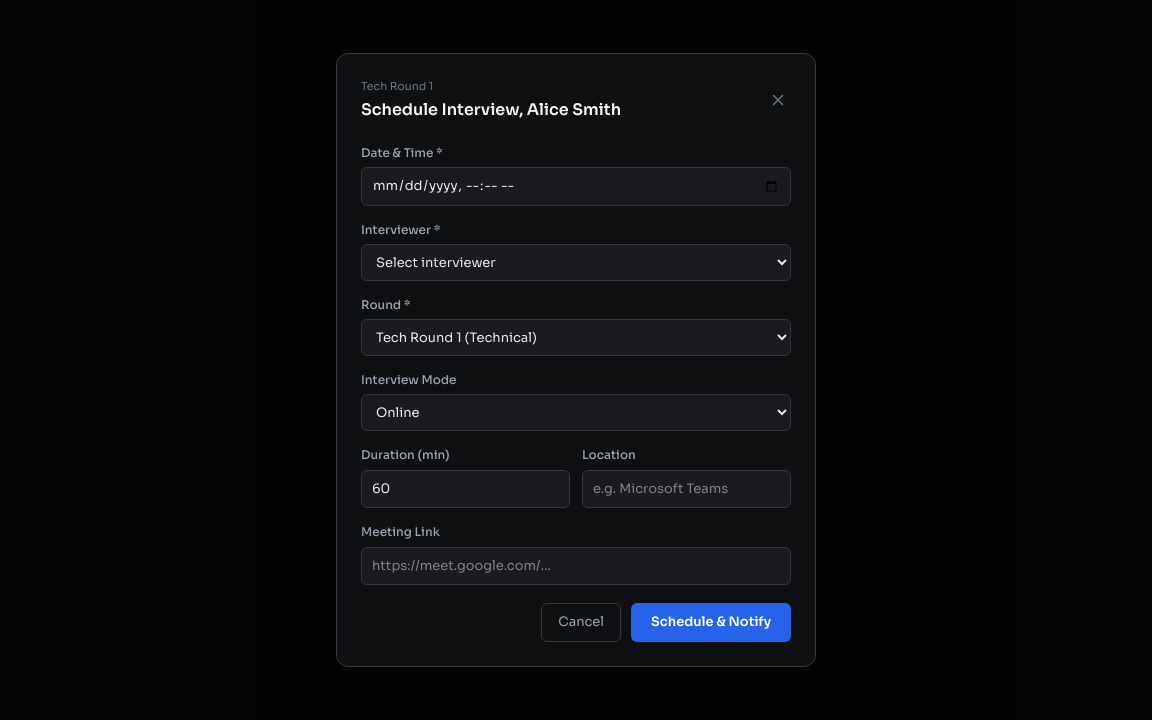
Test: InterviewScheduleModal › shows validation error and does not submit when date is missing
Click the button "Schedule & Notify" at (711, 623), box [631,604,791,642]
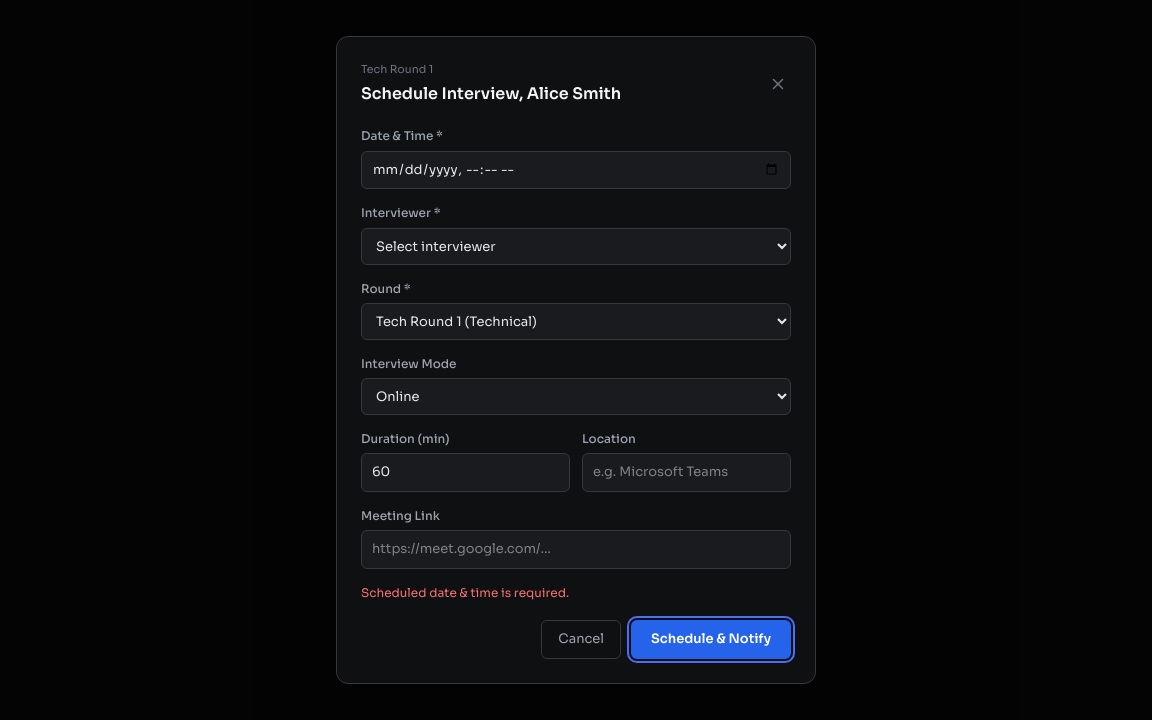
Result: the text "Scheduled date & time is required." is shown at [361,585,569,600]
